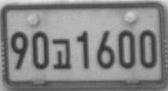0: (30, 30, 50, 69), (138, 28, 157, 69), (117, 28, 136, 68)
1: (74, 30, 94, 69)
6: (95, 29, 115, 70)
9: (9, 30, 29, 70)
고: (52, 38, 71, 69)
